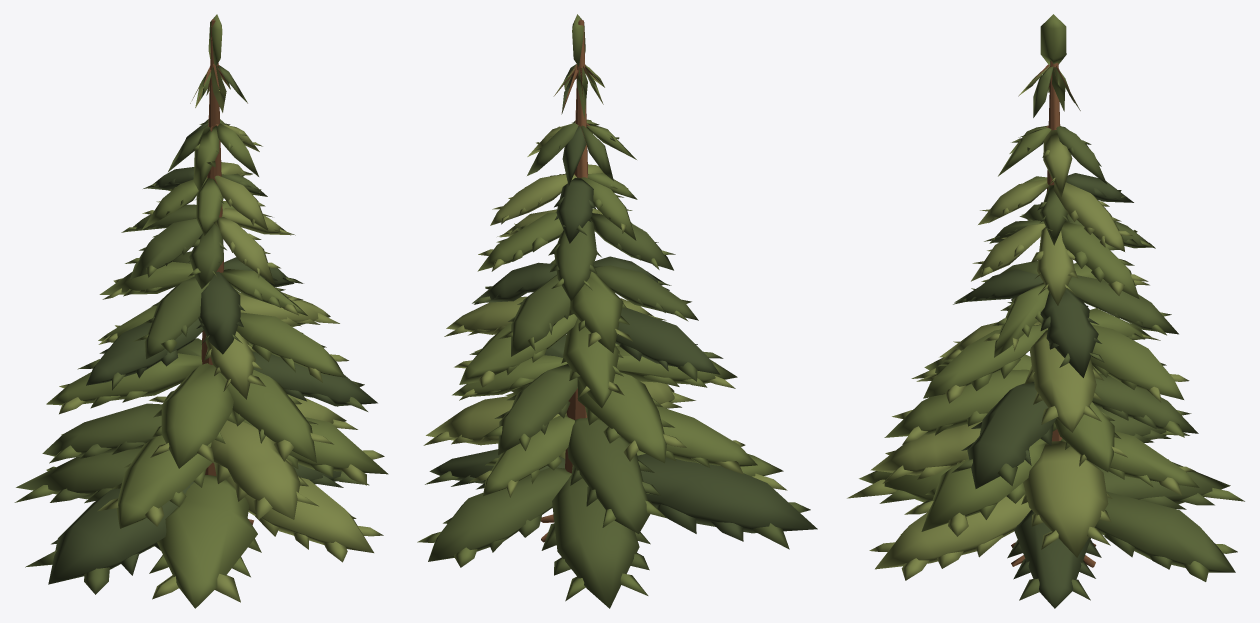
Rendered from pine-2-lod.glb.
3 renders of one model, left to right at view 1: azimuth 30°, elevation 25°; view 2: azimuth 150°, elevation 25°; view 3: azimuth 270°, elevation 25°, orthographic. The views are drawn at different scales.
Parts seen in each view (by area): view 1: pine-2; view 2: pine-2; view 3: pine-2.
Boxes of the visible parts, x1,y1,x2,y2 form: pine-2: (14, 14, 388, 608); pine-2: (417, 14, 817, 608); pine-2: (847, 14, 1244, 608).
Bounding box in the file's own units: 5.45 × 7.75 × 5.08.
